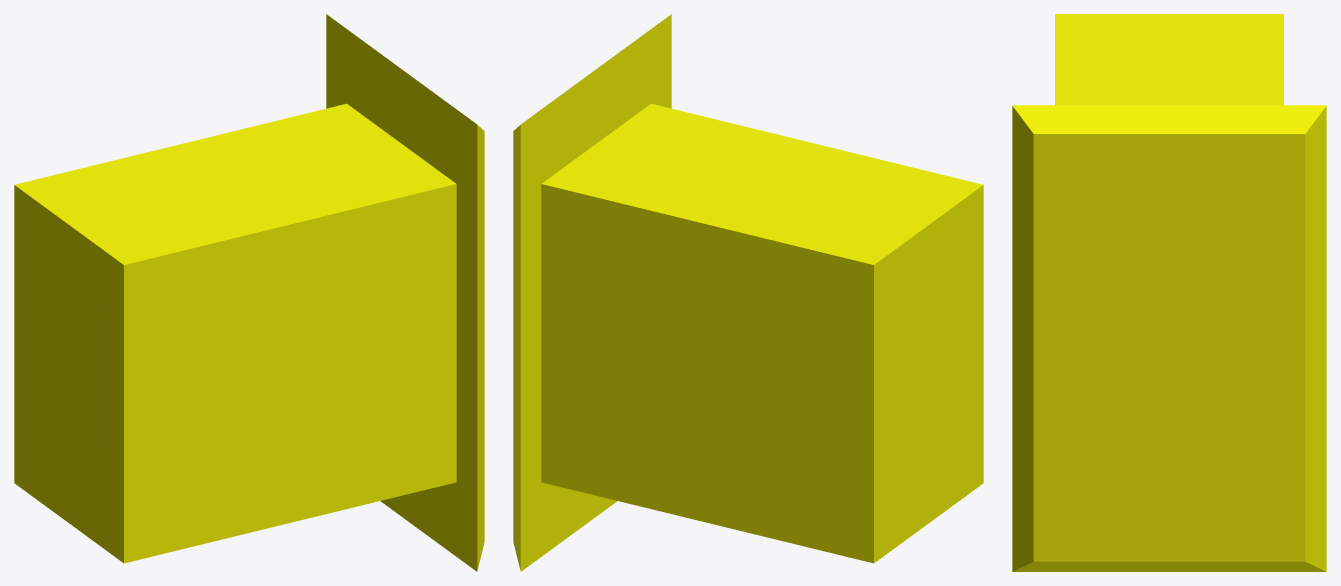
3 views of the same model, side by side, from view 1: azimuth 30°, elevation 25°; view 2: azimuth 150°, elevation 25°; view 3: azimuth 270°, elevation 25° (orthographic). The views are drawn at different scales.
Size of the model in its own units: 0.3073 by 0.375 by 0.2292.
